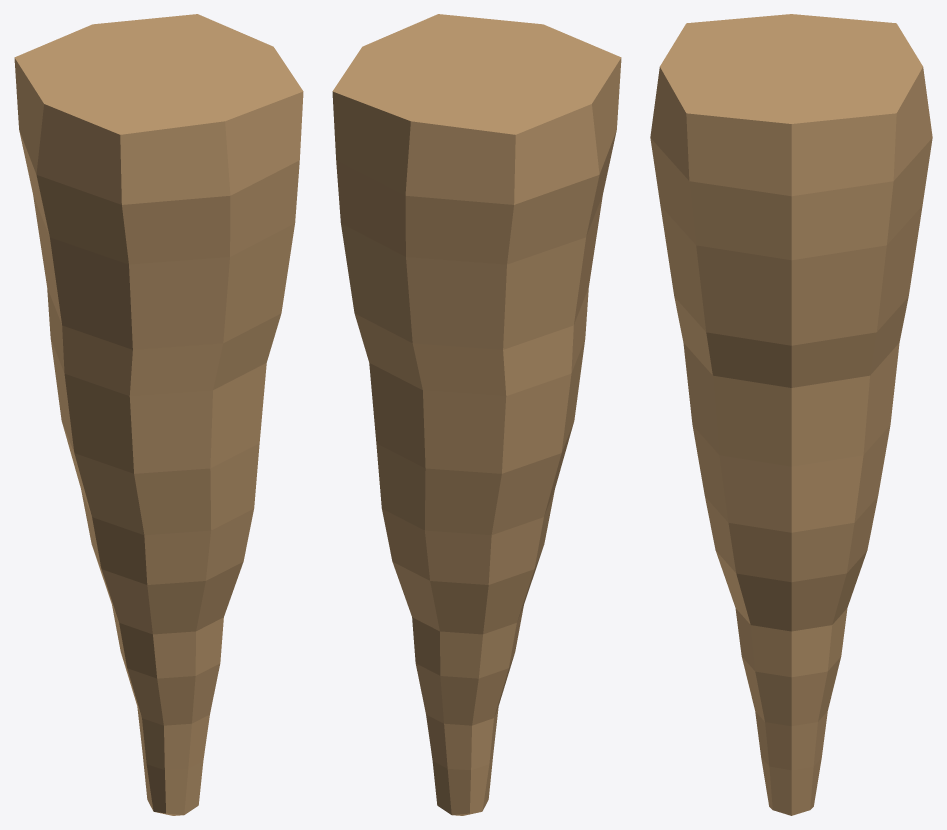
File: stalactite_med.fbx
3 views of the same model, side by side, from view 1: azimuth 30°, elevation 25°; view 2: azimuth 150°, elevation 25°; view 3: azimuth 270°, elevation 25° (orthographic).
Parts seen in each view (by area): view 1: Cube.004; view 2: Cube.004; view 3: Cube.004.
Boxes of the visible parts, bbox=[...] form: Cube.004: bbox=[14, 14, 303, 815]; Cube.004: bbox=[332, 14, 621, 815]; Cube.004: bbox=[650, 14, 932, 815].
Bounding box in the file's own units: 68.89 × 200 × 68.89.
